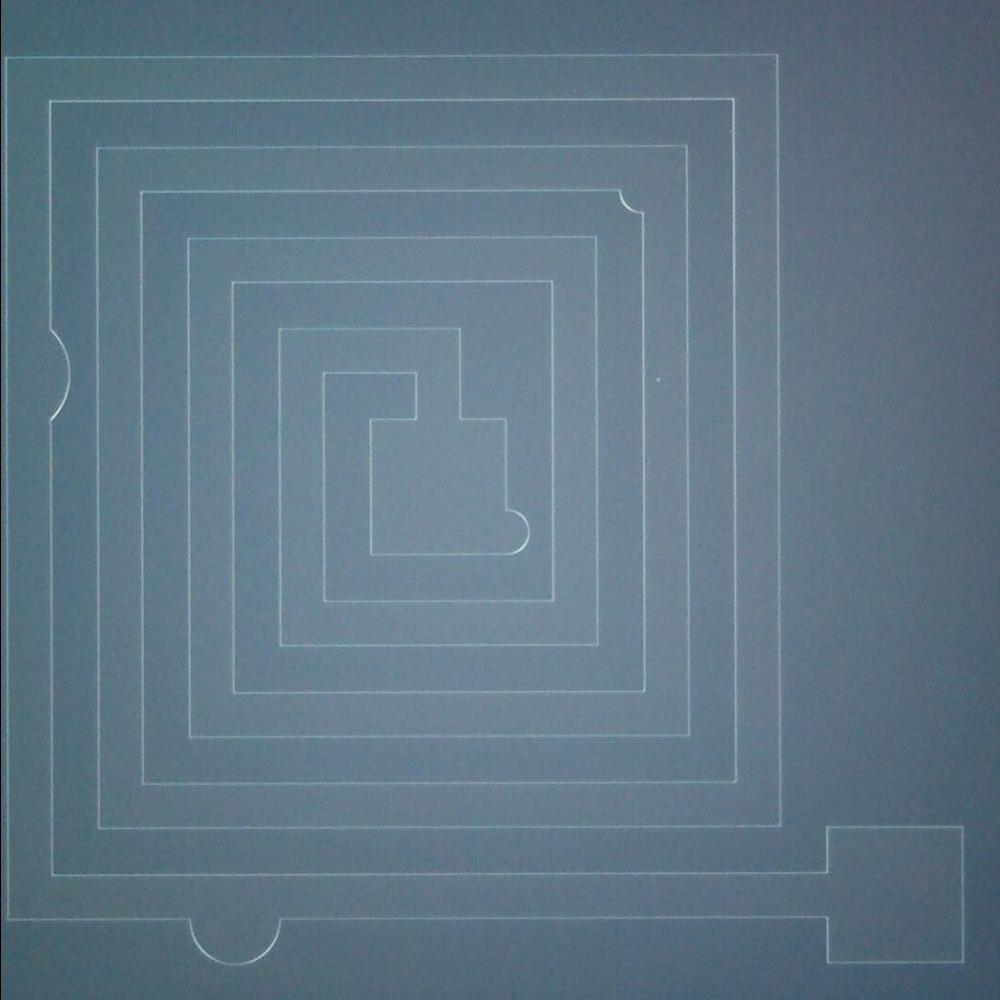curve circuit: (176, 899, 292, 970), (36, 308, 84, 436), (610, 170, 657, 225), (496, 497, 534, 562)
